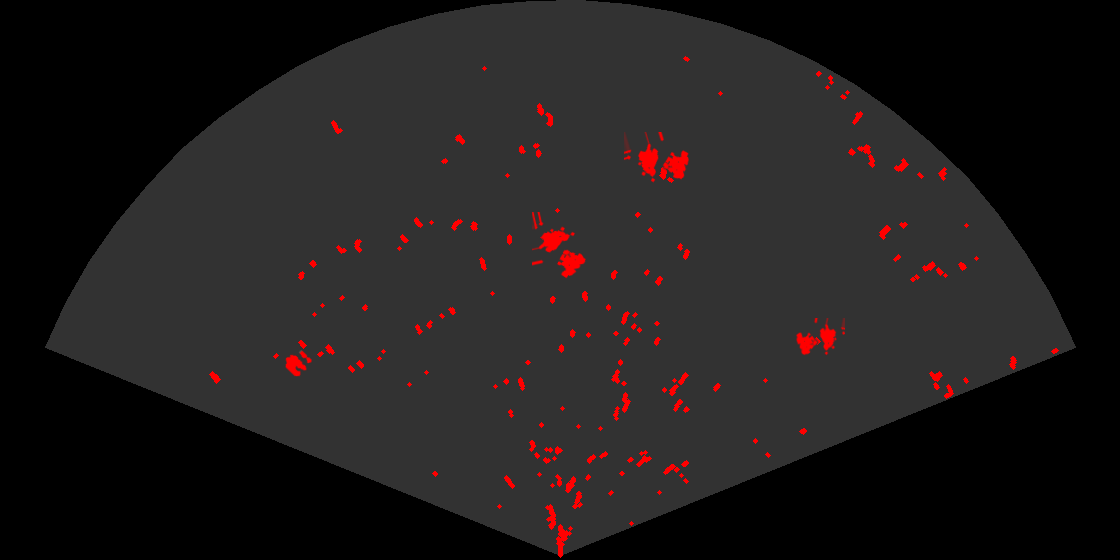ball: (284, 349, 313, 378)
cage: (532, 212, 587, 280), (624, 132, 691, 184), (794, 318, 845, 357)
